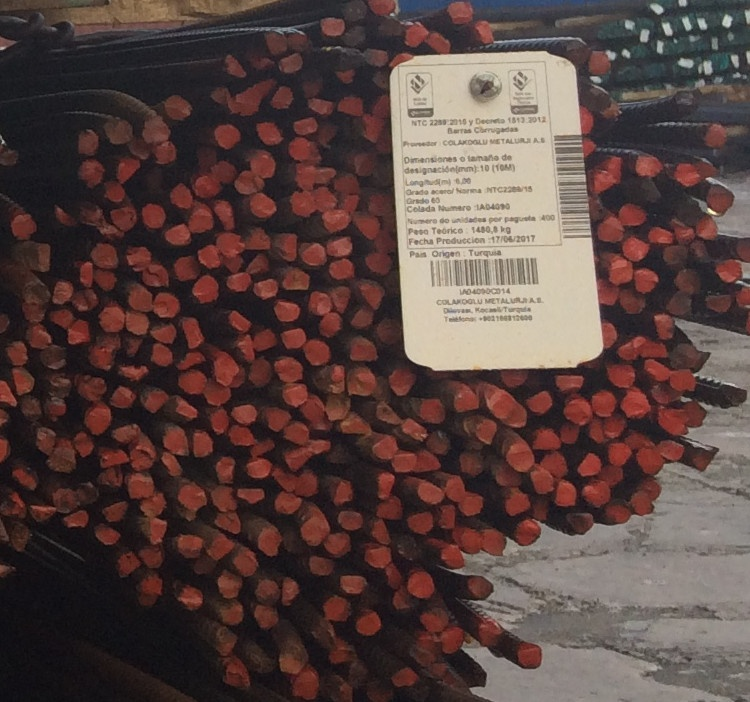dipstick: (246, 640, 280, 674), (507, 440, 536, 471), (582, 478, 612, 507), (408, 570, 436, 600), (316, 364, 344, 393), (345, 368, 374, 396), (163, 426, 190, 456), (304, 517, 329, 549), (224, 660, 252, 688), (677, 195, 704, 224), (178, 483, 208, 509), (180, 318, 205, 349), (339, 413, 372, 436), (504, 490, 532, 517), (78, 159, 104, 188), (675, 343, 704, 369), (624, 235, 650, 264), (359, 279, 384, 309), (389, 366, 414, 396), (272, 492, 303, 516), (280, 644, 304, 675), (227, 92, 259, 115), (416, 609, 448, 632), (13, 465, 40, 492), (466, 575, 493, 602), (620, 289, 647, 316), (192, 176, 220, 202), (177, 371, 205, 397), (418, 399, 446, 425), (534, 429, 562, 455), (564, 397, 592, 423), (621, 392, 649, 418), (495, 463, 524, 488), (672, 269, 701, 294), (212, 511, 242, 535), (643, 357, 674, 380), (192, 278, 219, 304), (233, 549, 259, 576), (255, 602, 281, 629), (637, 449, 664, 475), (653, 314, 680, 340), (365, 250, 393, 275), (275, 358, 303, 383), (216, 570, 244, 595), (295, 472, 320, 500), (292, 670, 317, 698), (515, 518, 540, 546), (609, 258, 634, 286), (455, 529, 484, 553), (530, 466, 554, 495), (714, 260, 743, 284), (322, 212, 353, 234), (88, 406, 110, 437), (280, 579, 302, 610), (99, 307, 125, 333), (129, 445, 155, 471), (656, 409, 682, 435), (300, 70, 325, 97), (105, 119, 132, 144), (251, 153, 276, 180), (324, 394, 349, 421), (211, 485, 238, 510), (271, 465, 298, 490), (219, 600, 244, 627), (256, 577, 281, 604), (9, 368, 34, 395), (543, 451, 568, 478), (607, 443, 634, 468), (720, 386, 747, 411), (599, 218, 626, 243), (707, 186, 732, 213), (96, 242, 120, 270), (248, 194, 276, 218), (349, 337, 377, 361), (204, 382, 232, 406), (25, 324, 53, 348), (126, 477, 156, 499), (7, 522, 29, 552), (602, 504, 632, 526), (661, 245, 691, 267), (412, 482, 443, 503), (282, 383, 307, 409), (280, 529, 305, 555), (325, 676, 350, 702), (605, 415, 630, 441), (488, 389, 515, 413), (482, 529, 505, 557), (455, 384, 478, 412), (566, 513, 594, 536), (682, 402, 705, 430), (464, 667, 492, 690), (287, 137, 316, 159), (227, 425, 256, 447), (3, 492, 25, 521), (235, 171, 265, 192), (290, 192, 315, 217), (154, 294, 179, 319), (526, 392, 551, 417), (634, 269, 659, 294), (143, 118, 169, 142), (284, 422, 308, 448), (53, 203, 79, 227), (402, 419, 428, 443), (367, 519, 391, 545), (395, 534, 419, 560), (459, 450, 483, 476), (285, 267, 308, 294), (215, 356, 237, 384), (39, 347, 67, 369), (694, 443, 716, 471), (666, 295, 694, 317), (283, 449, 312, 470), (257, 526, 278, 555), (450, 1, 474, 26), (356, 214, 380, 239), (302, 243, 327, 267), (228, 309, 252, 334), (122, 334, 146, 359), (178, 534, 203, 558), (178, 586, 203, 610), (478, 621, 502, 646), (517, 643, 541, 668), (654, 382, 679, 406), (143, 266, 169, 289), (328, 236, 354, 259), (305, 342, 331, 365), (192, 432, 215, 458), (264, 408, 290, 431), (79, 202, 105, 225), (74, 289, 97, 315), (65, 321, 91, 344), (440, 628, 463, 654), (639, 179, 662, 205), (254, 123, 281, 145), (171, 398, 198, 420), (593, 391, 615, 418), (497, 370, 528, 389), (213, 201, 234, 229), (378, 319, 399, 347), (620, 204, 648, 225), (216, 456, 236, 485), (61, 510, 90, 530), (97, 448, 129, 466), (139, 575, 163, 599), (473, 421, 497, 445), (639, 476, 663, 500), (175, 257, 200, 280), (218, 232, 243, 255), (248, 251, 271, 276), (92, 347, 115, 372), (141, 494, 166, 517), (209, 535, 232, 560), (12, 213, 35, 238), (367, 547, 392, 570), (325, 597, 350, 620), (390, 588, 415, 611), (576, 453, 601, 476), (630, 491, 655, 514), (198, 246, 220, 272), (273, 300, 299, 322), (26, 283, 52, 305), (18, 395, 40, 421), (376, 402, 402, 424), (356, 613, 382, 635), (673, 162, 699, 184), (554, 375, 584, 394), (329, 260, 356, 281), (215, 628, 236, 655), (339, 573, 366, 594), (245, 459, 273, 479), (118, 364, 149, 382), (316, 621, 334, 652), (328, 48, 352, 71), (166, 96, 190, 119), (215, 124, 239, 147), (129, 289, 152, 313), (308, 292, 332, 315), (320, 315, 343, 339), (112, 387, 136, 410), (47, 372, 71, 395), (333, 286, 352, 315), (385, 564, 404, 593), (116, 158, 138, 183), (225, 272, 250, 294), (302, 398, 324, 423), (372, 436, 397, 458), (330, 642, 352, 667), (377, 498, 402, 520), (556, 421, 578, 446), (427, 32, 453, 53), (295, 165, 316, 191), (95, 524, 121, 545), (49, 308, 75, 329), (429, 430, 450, 456), (446, 477, 467, 503), (238, 487, 265, 507), (21, 302, 48, 322), (307, 555, 334, 575), (509, 405, 529, 432), (599, 321, 617, 351), (598, 278, 618, 305), (635, 156, 662, 176), (224, 55, 247, 78), (254, 278, 277, 301), (100, 468, 123, 491), (140, 546, 163, 569), (76, 483, 99, 506), (601, 464, 624, 487), (341, 1, 365, 23), (110, 208, 134, 230), (127, 248, 151, 270), (6, 343, 28, 367), (44, 399, 66, 423), (474, 20, 495, 45), (213, 162, 234, 187), (126, 310, 147, 335), (77, 130, 98, 155), (329, 533, 350, 558), (407, 513, 432, 534), (659, 441, 684, 462), (626, 433, 651, 454), (609, 365, 634, 386), (166, 226, 192, 246), (192, 208, 212, 234), (152, 325, 178, 345), (252, 332, 278, 352), (103, 502, 129, 522), (640, 339, 666, 359), (264, 30, 287, 52), (143, 204, 165, 227), (351, 306, 373, 329), (143, 391, 166, 413), (160, 454, 183, 476), (672, 370, 694, 393), (704, 127, 727, 149), (672, 92, 695, 114), (1, 147, 22, 171), (72, 432, 93, 456), (415, 451, 439, 472), (335, 481, 356, 505), (439, 546, 463, 567), (697, 216, 718, 240), (333, 173, 358, 193), (366, 194, 391, 214), (244, 229, 269, 249), (231, 404, 256, 424), (55, 449, 75, 474), (331, 445, 351, 470), (555, 481, 575, 506), (175, 352, 206, 368), (35, 243, 51, 274), (89, 376, 108, 402), (335, 511, 361, 530), (113, 426, 142, 443), (27, 504, 56, 521), (704, 296, 733, 313), (367, 684, 394, 702), (249, 362, 271, 384), (461, 495, 483, 517), (171, 185, 192, 208), (316, 188, 337, 211), (282, 328, 305, 349), (117, 554, 140, 575), (417, 633, 440, 654), (592, 170, 613, 193), (566, 41, 589, 62), (367, 1, 399, 16), (342, 25, 366, 45), (101, 180, 125, 200), (197, 145, 217, 169), (409, 644, 433, 664), (691, 239, 711, 263), (592, 53, 612, 77), (306, 98, 334, 115), (249, 51, 274, 70), (235, 335, 254, 360), (249, 441, 274, 460), (53, 489, 78, 508), (379, 18, 405, 36), (587, 418, 605, 444), (79, 261, 95, 290), (151, 345, 173, 366), (346, 662, 367, 684), (590, 89, 611, 111), (406, 24, 426, 47), (320, 18, 343, 38), (94, 270, 117, 290), (620, 337, 640, 360), (376, 471, 393, 498), (278, 54, 302, 73), (338, 97, 362, 116), (280, 234, 296, 262), (363, 113, 380, 139), (54, 281, 71, 307), (373, 232, 394, 253), (394, 670, 415, 691), (274, 87, 294, 109), (308, 438, 330, 458), (650, 227, 672, 247), (436, 505, 455, 528), (695, 159, 718, 178), (577, 106, 592, 135), (319, 123, 337, 147), (229, 367, 247, 391), (209, 410, 227, 434), (148, 518, 166, 542), (36, 427, 52, 454), (531, 496, 548, 521), (676, 227, 698, 246), (153, 143, 176, 161), (353, 151, 371, 174), (363, 49, 387, 66), (373, 93, 390, 117), (392, 454, 416, 471), (1, 380, 15, 409), (130, 136, 149, 157), (195, 556, 214, 577), (286, 32, 308, 50), (295, 117, 317, 135), (220, 255, 243, 272), (255, 80, 275, 99), (103, 224, 122, 244), (376, 127, 390, 154), (98, 335, 120, 352), (372, 68, 388, 91), (608, 157, 623, 181), (339, 194, 358, 211), (600, 105, 619, 122), (582, 135, 596, 158), (211, 86, 231, 102), (335, 70, 355, 85), (737, 238, 750, 260), (317, 168, 332, 185), (737, 286, 750, 305), (1, 437, 9, 467)
